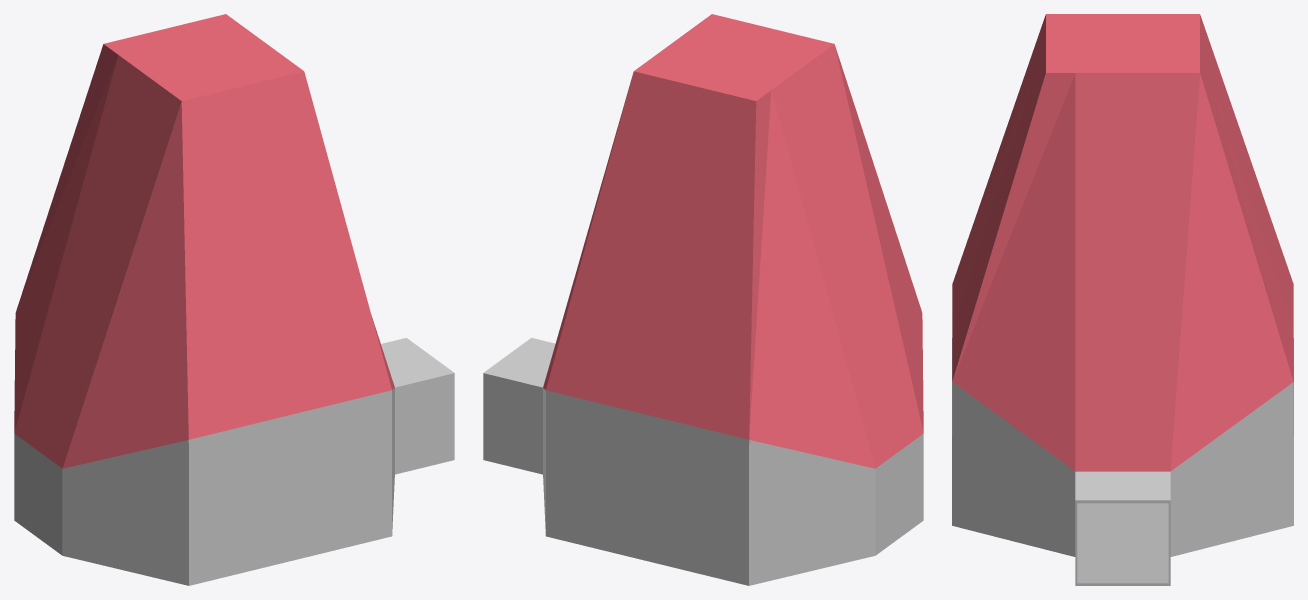
File: house_3.fbx
The picture shows the model from 3 angles, left to right: view 1: azimuth 30°, elevation 25°; view 2: azimuth 150°, elevation 25°; view 3: azimuth 270°, elevation 25°; orthographic projection.
Visible parts, largest first — view 1: house_3; view 2: house_3; view 3: house_3.
Boxes of the visible parts, left/top/right/bottom form: house_3: left=14, top=14, right=454, bottom=585; house_3: left=483, top=14, right=923, bottom=585; house_3: left=952, top=14, right=1293, bottom=585.
Size of the model in its own units: 1157 by 1241 by 886.
